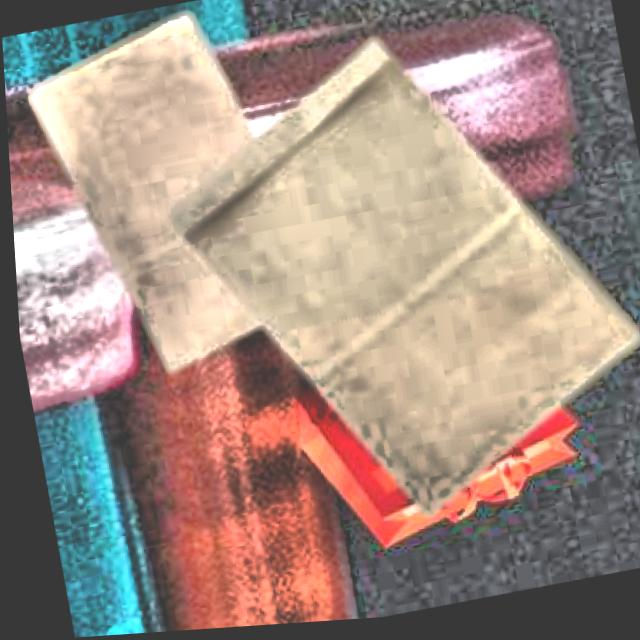Paper-bag: (145, 6, 640, 532), (4, 0, 318, 408), (260, 333, 612, 558)
